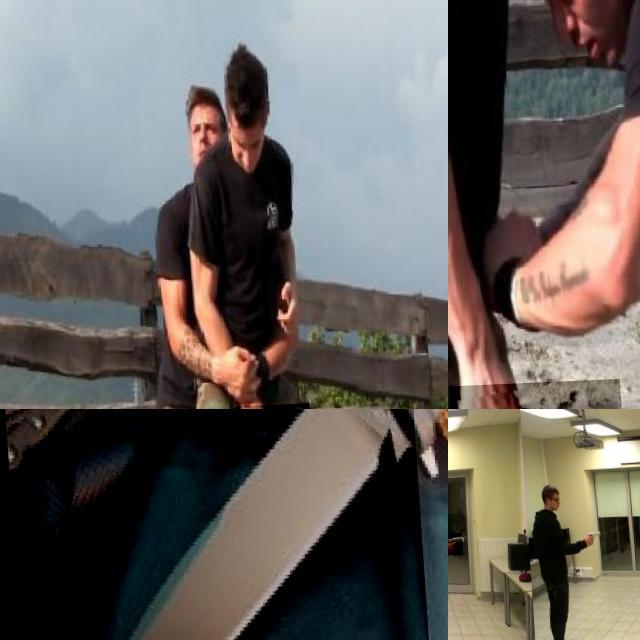-: (0, 409, 427, 640), (448, 383, 617, 409)
gun-knife-thesis - v11 Yolov5 augmented: (580, 531, 598, 551), (448, 535, 460, 558)
